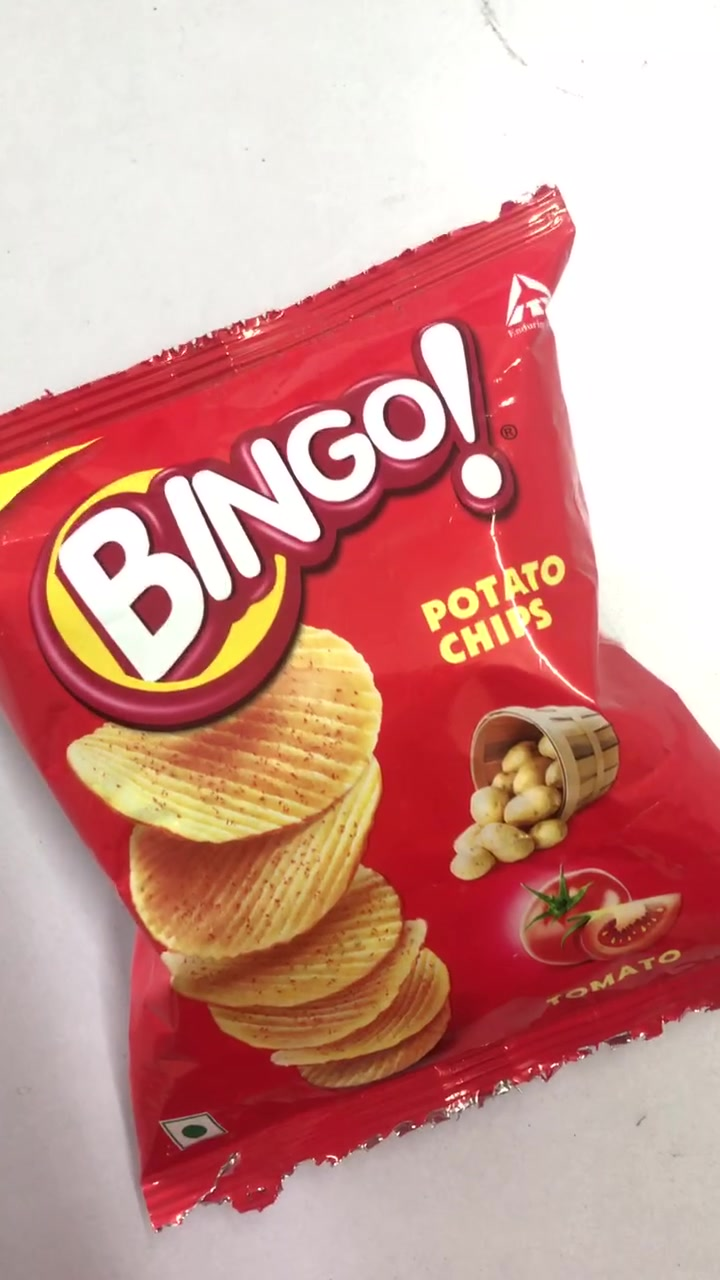Bingo: (10, 252, 720, 1164)
